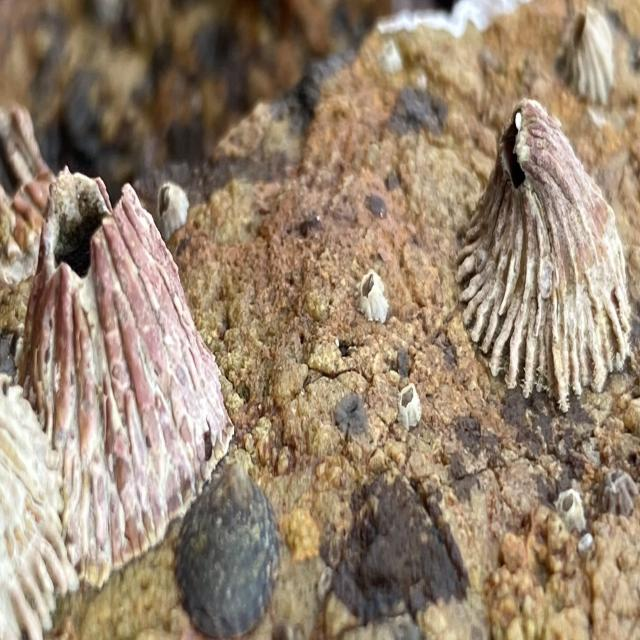barnacles: (19, 160, 232, 594), (452, 90, 634, 413), (561, 6, 617, 115), (356, 266, 388, 331), (158, 178, 191, 239), (398, 382, 424, 433)
